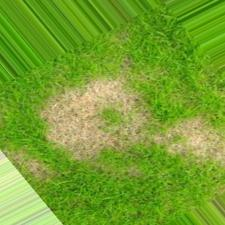patch: (163, 125, 219, 152), (54, 102, 86, 143), (89, 88, 135, 101)
